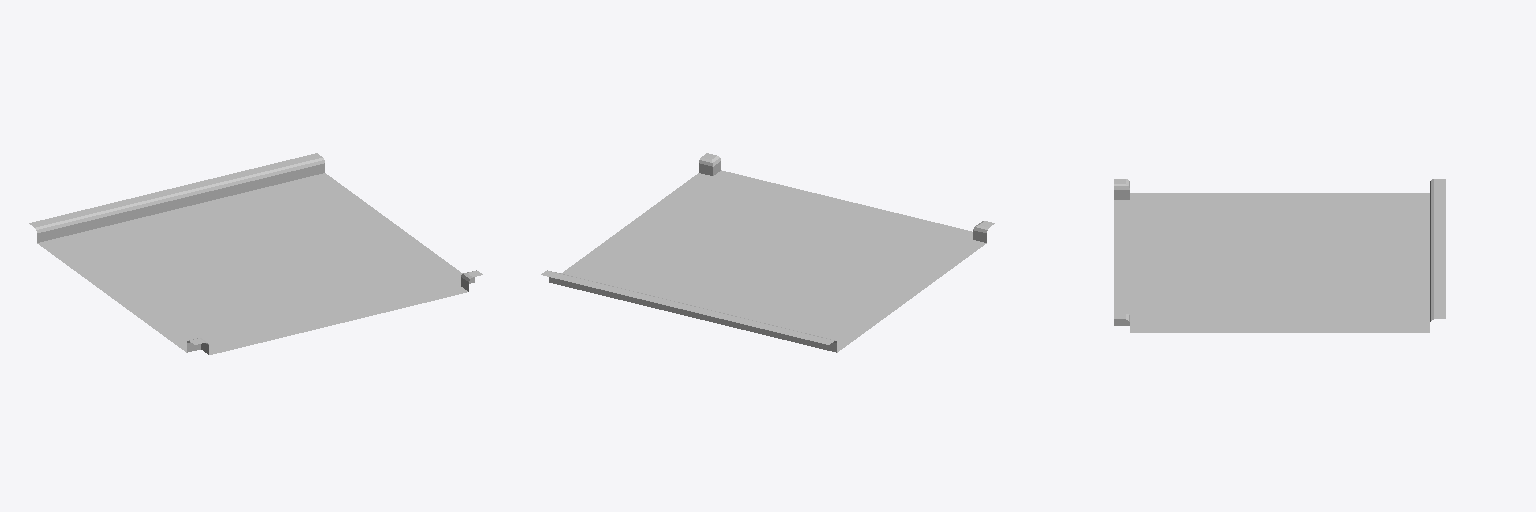
The model's file is T-int_1.obj.
3 renders of one model, left to right at view 1: azimuth 30°, elevation 25°; view 2: azimuth 150°, elevation 25°; view 3: azimuth 270°, elevation 25°, orthographic.
Visible parts, largest first — view 1: pCube4; view 2: pCube4; view 3: pCube4.
Part boxes in pixels (x1,y1,x2,y2): pCube4: (29,153,482,354); pCube4: (541,153,994,352); pCube4: (1114,179,1445,332).
Bounding box in the file's own units: 20 × 0.9118 × 20.